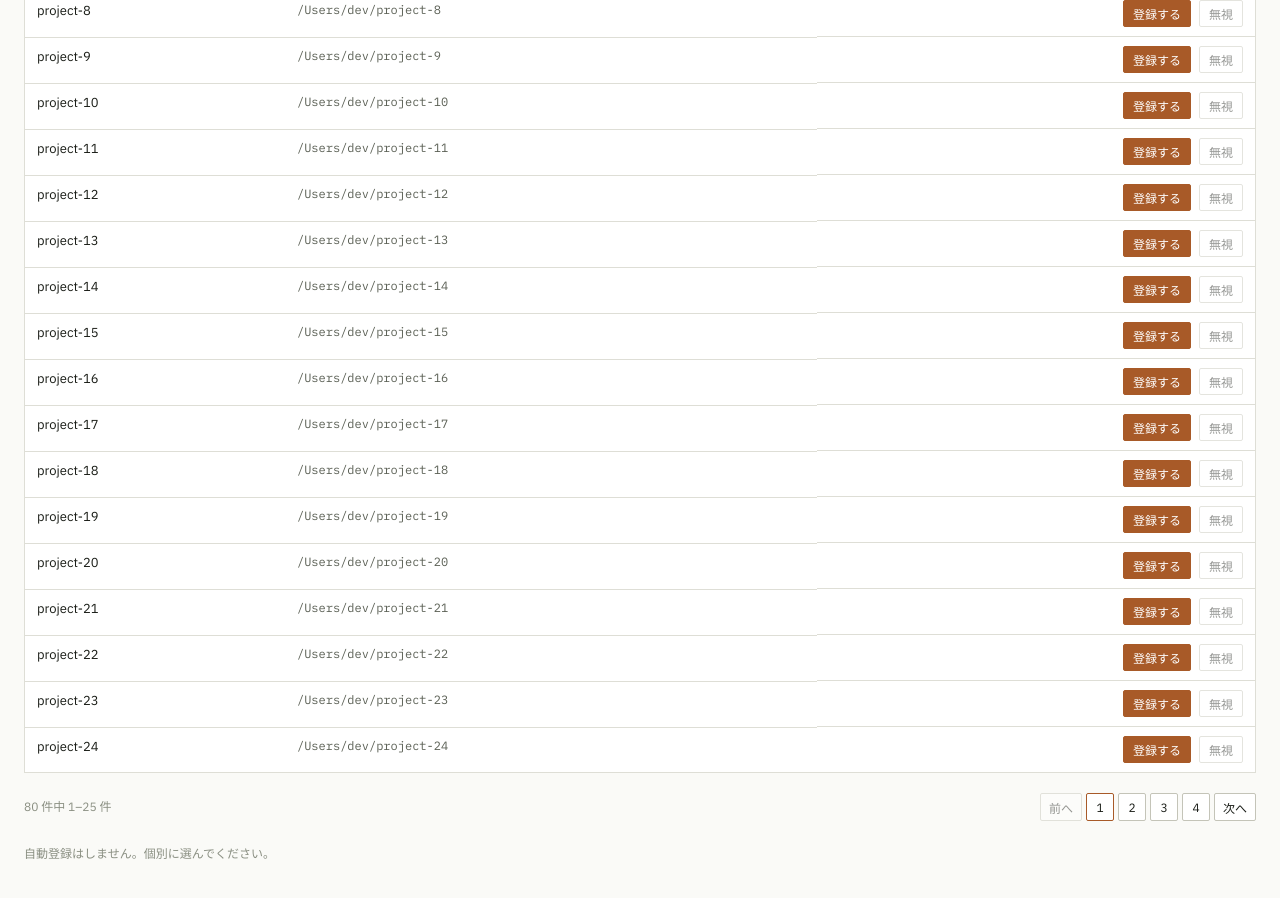
Test: Dashboard › paginates a long list of unregistered candidates
(page scrolled)
expect the text "80 件中 1–25 件" is shown: met, box [24,798,112,816]
Click the button "次へ".
click(1235, 807)  # box [1214,793,1256,821]
(page scrolled)
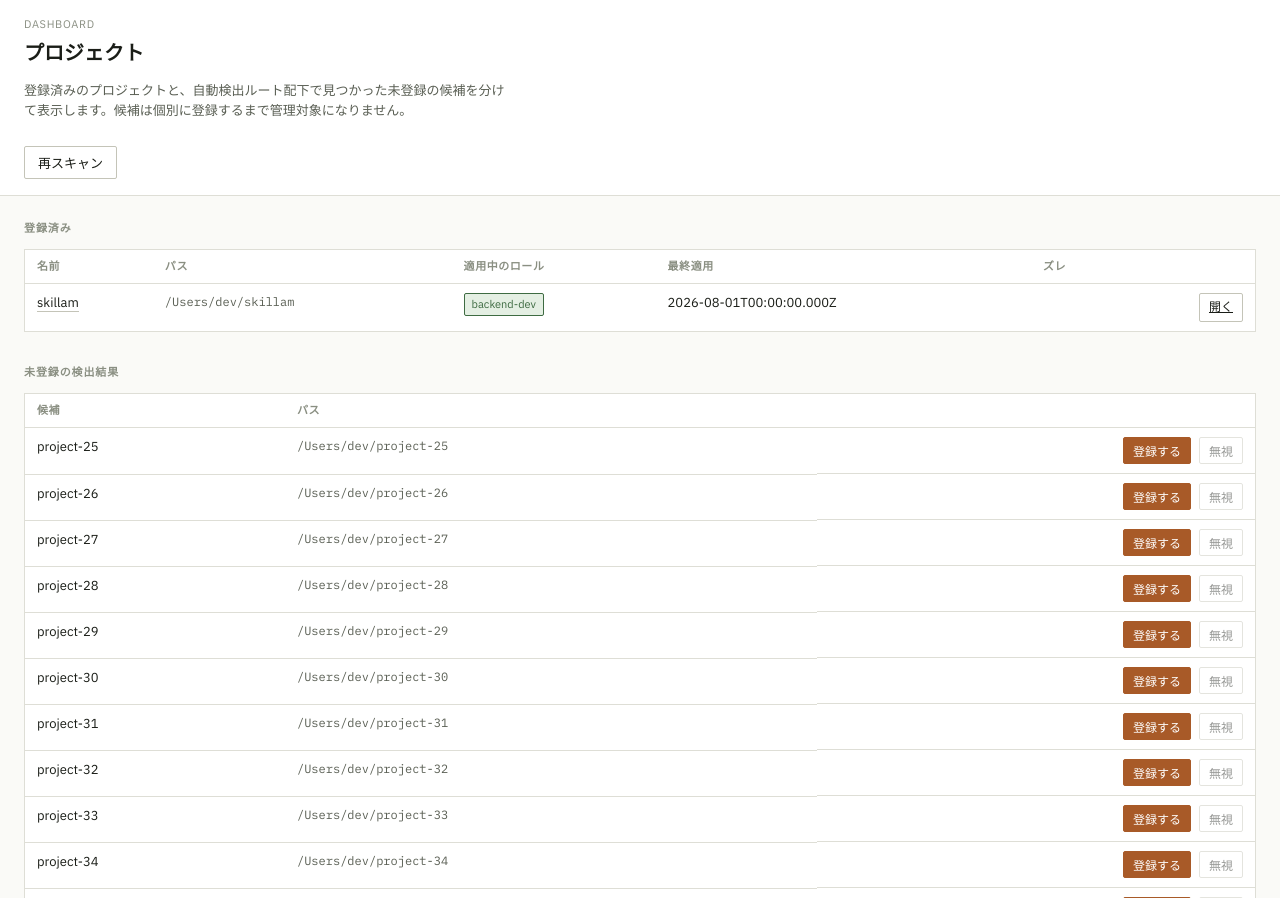
expect the text "project-25" is shown: met, box [25,428,285,474]
